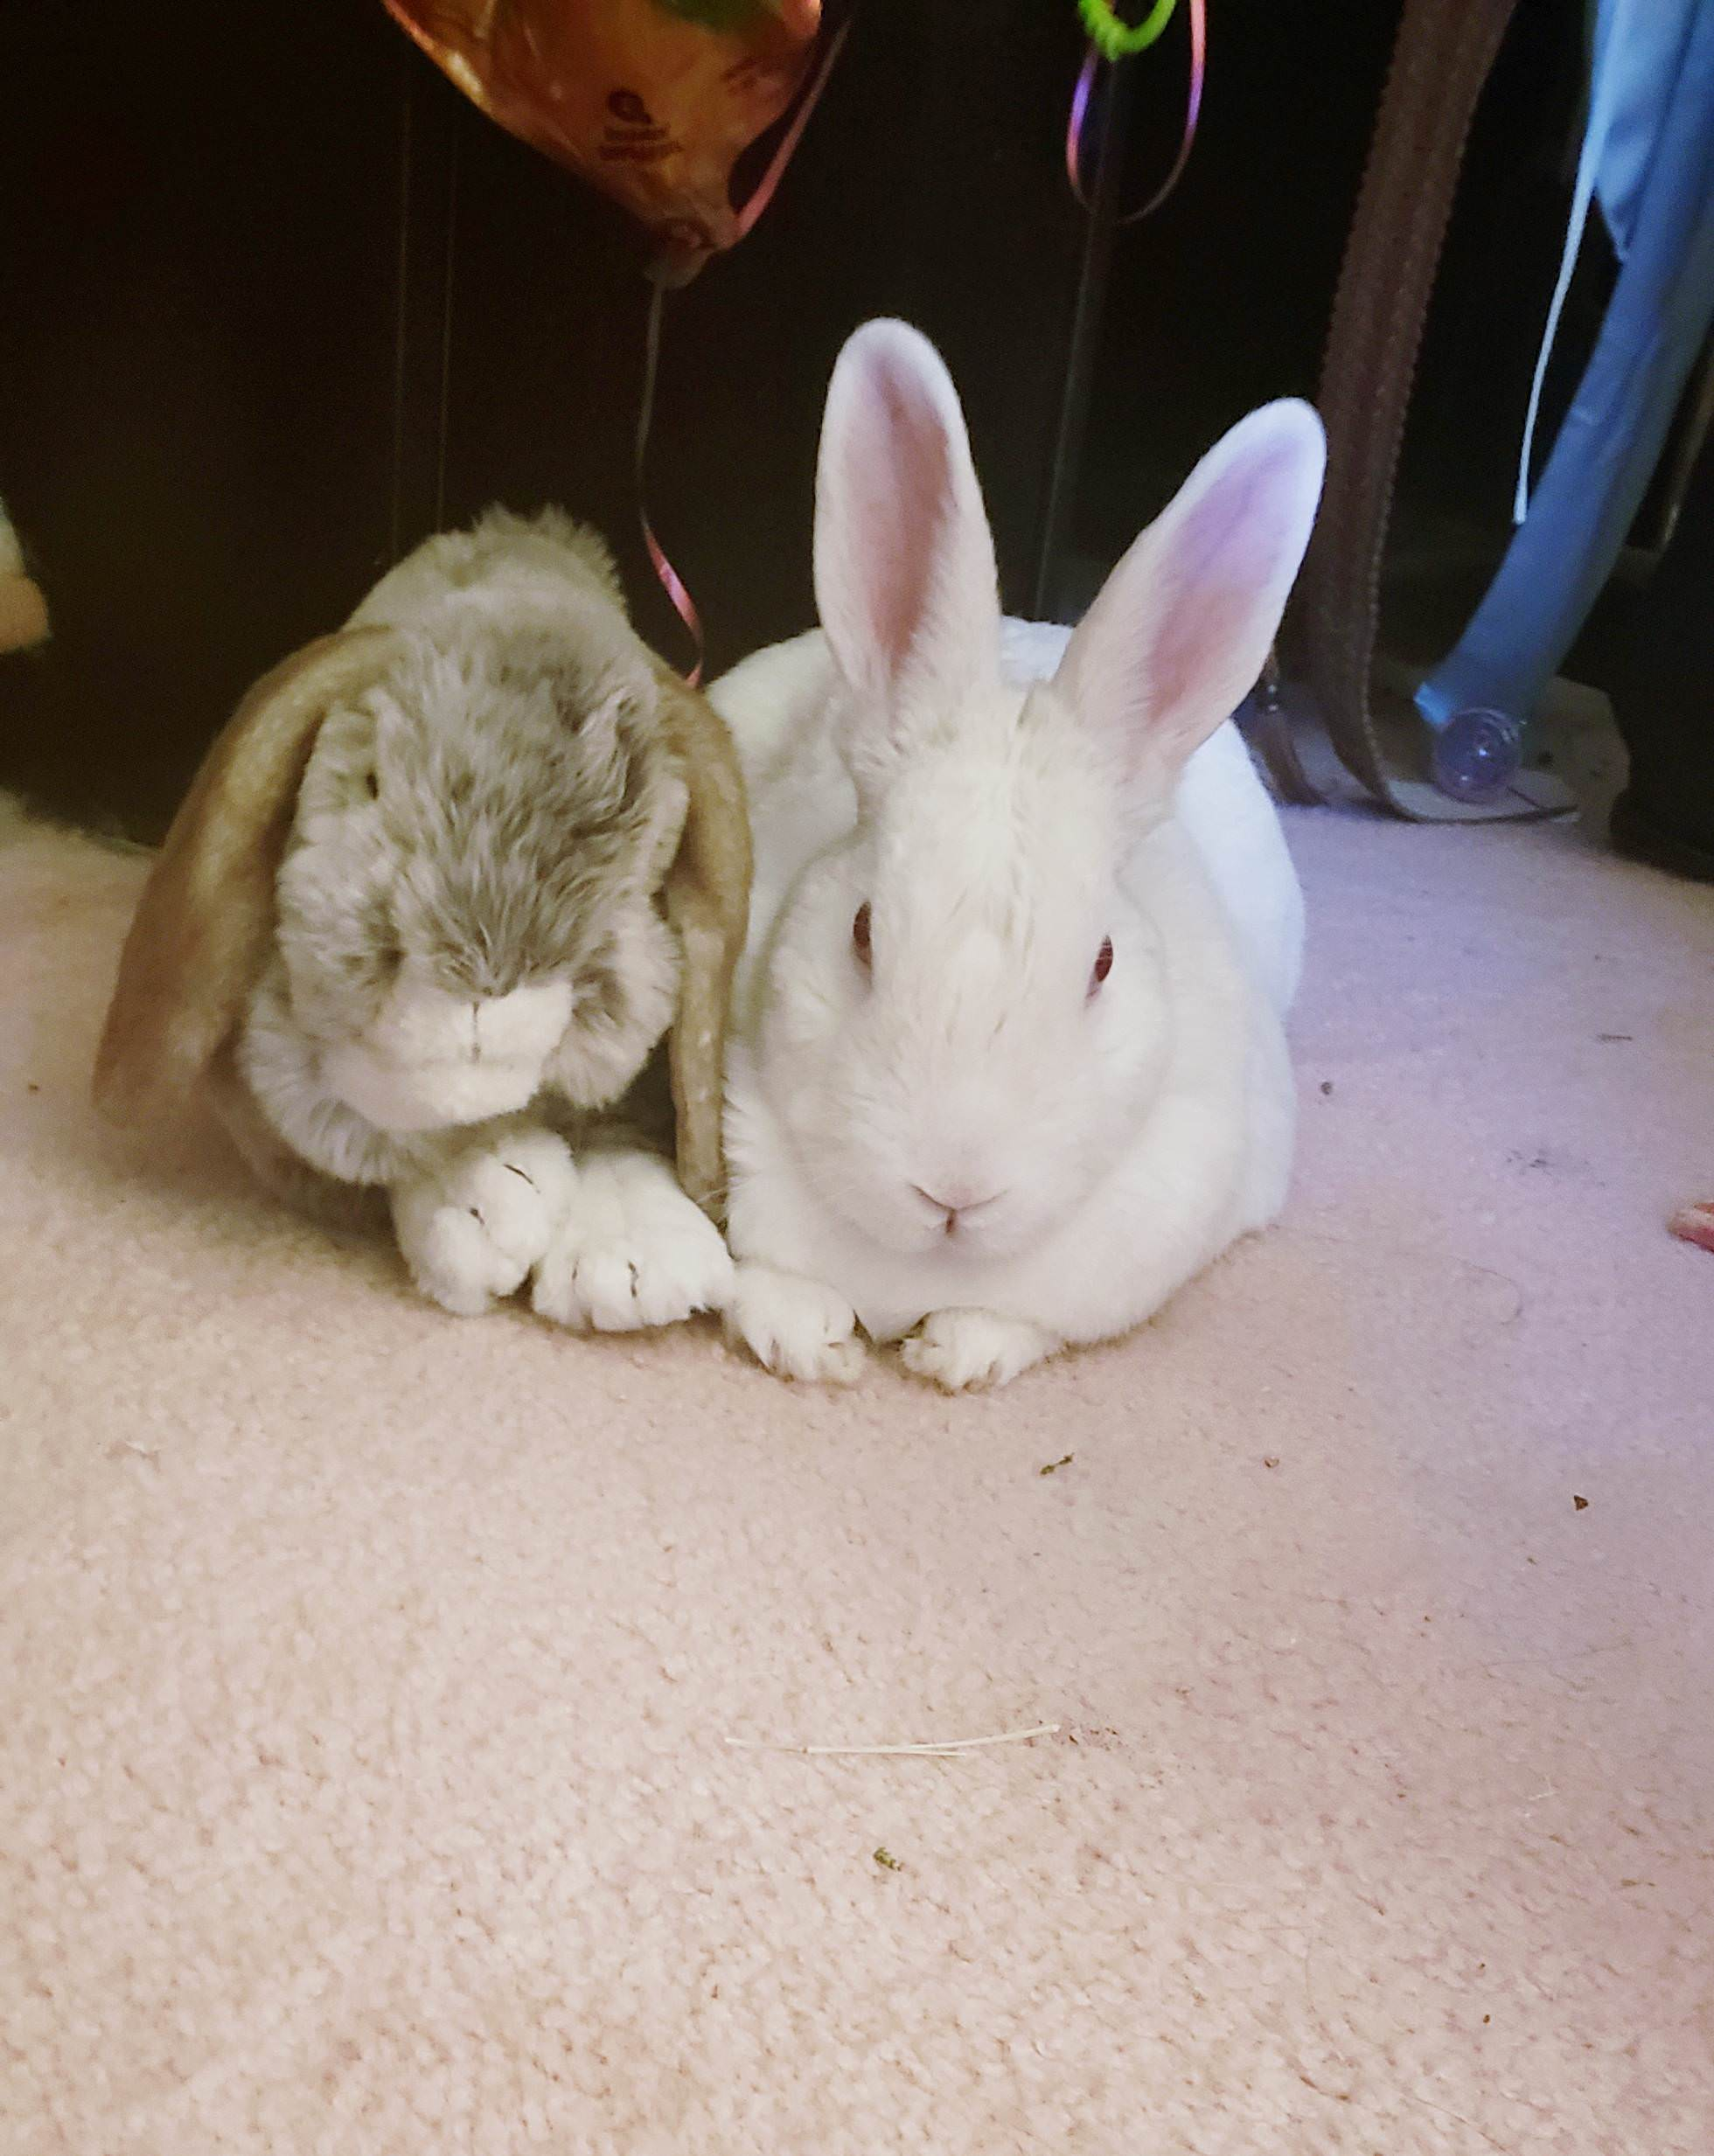bunny: (765, 294, 1355, 1409), (72, 432, 744, 1183)
